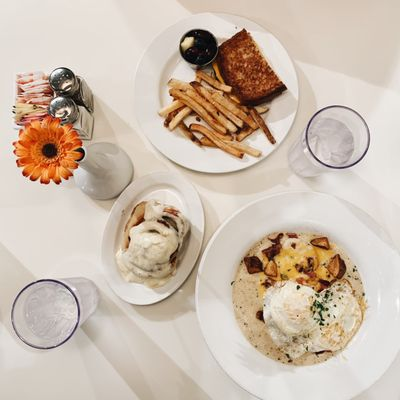pizza: (288, 105, 371, 179)
